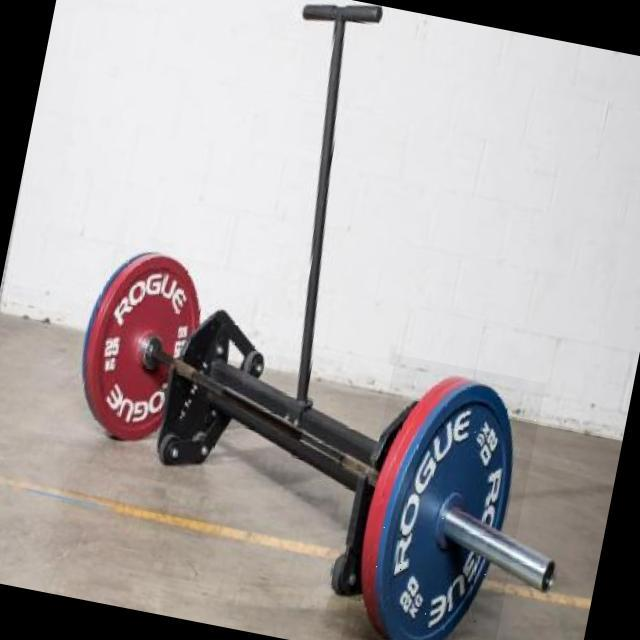barbell: (340, 355, 547, 640)
